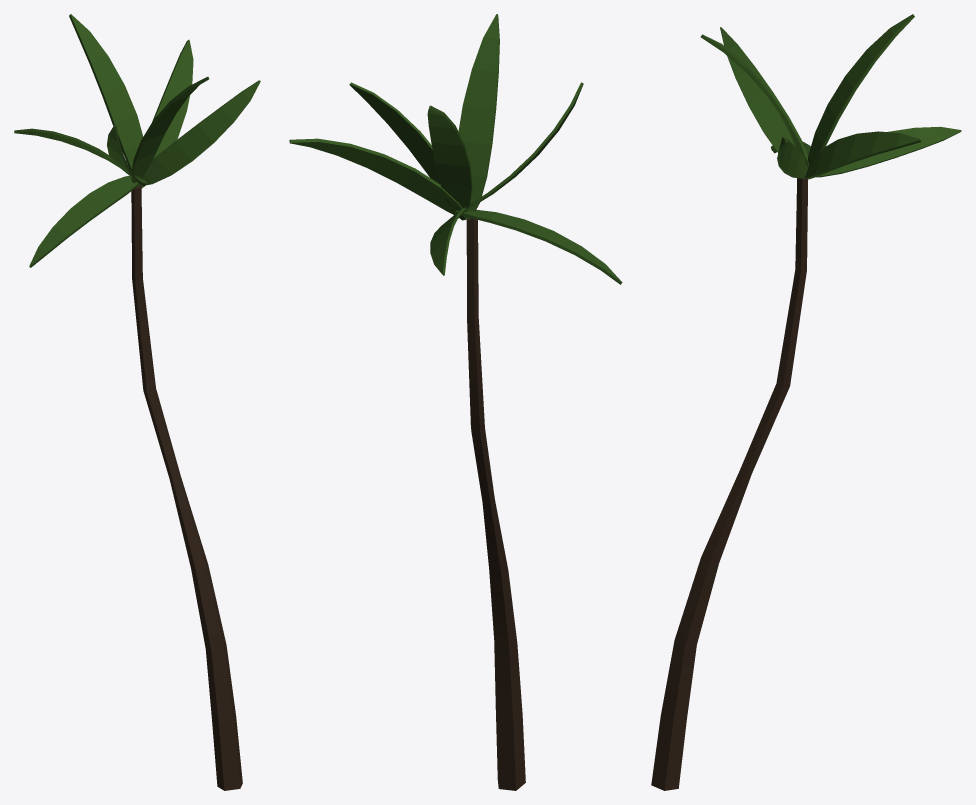
Rendered from SM_tree_palm_small_02.fbx.
3 views of the same model, side by side, from view 1: azimuth 30°, elevation 25°; view 2: azimuth 150°, elevation 25°; view 3: azimuth 270°, elevation 25° (orthographic). The views are drawn at different scales.
Parts seen in each view (by area): view 1: Line006; view 2: Line006; view 3: Line006.
Part boxes in pixels (x1,y1,x2,y2): Line006: (14,14,260,790); Line006: (289,14,622,790); Line006: (651,14,961,790).
Size of the model in its own units: 59.6 by 63.24 by 168.
